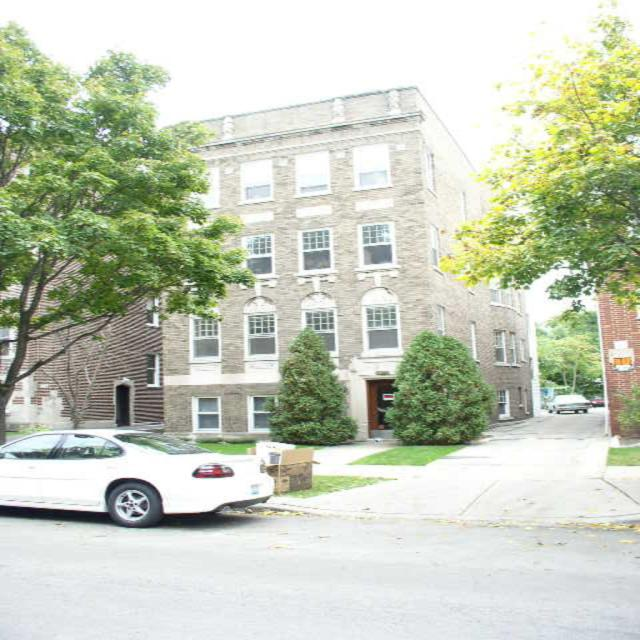car: (544, 393, 587, 410)
